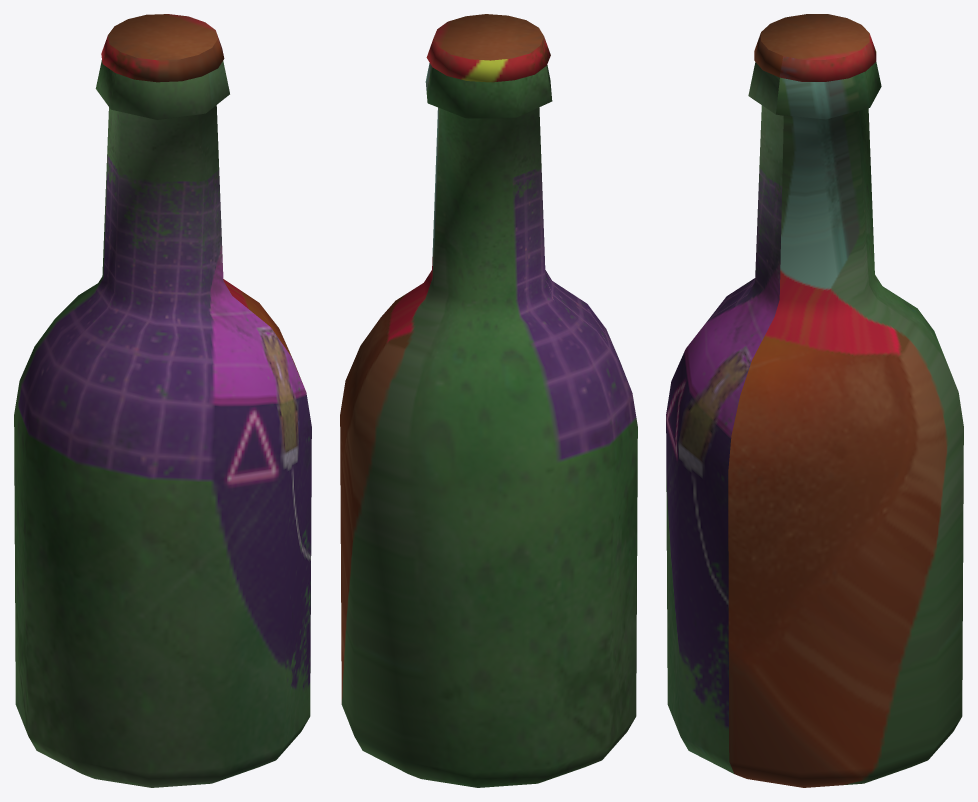
File: SM_Bottle_07.fbx
The picture shows the model from 3 angles, left to right: view 1: azimuth 30°, elevation 25°; view 2: azimuth 150°, elevation 25°; view 3: azimuth 270°, elevation 25°; orthographic projection.
Parts seen in each view (by area): view 1: SM_Bottle_07_LOD0; view 2: SM_Bottle_07_LOD0; view 3: SM_Bottle_07_LOD0.
Boxes of the visible parts, x1=… form: SM_Bottle_07_LOD0: x1=14, y1=14, x2=311, y2=787; SM_Bottle_07_LOD0: x1=340, y1=14, x2=637, y2=787; SM_Bottle_07_LOD0: x1=666, y1=14, x2=963, y2=787.
Size of the model in its own units: 7.64 by 7.64 by 19.86.
